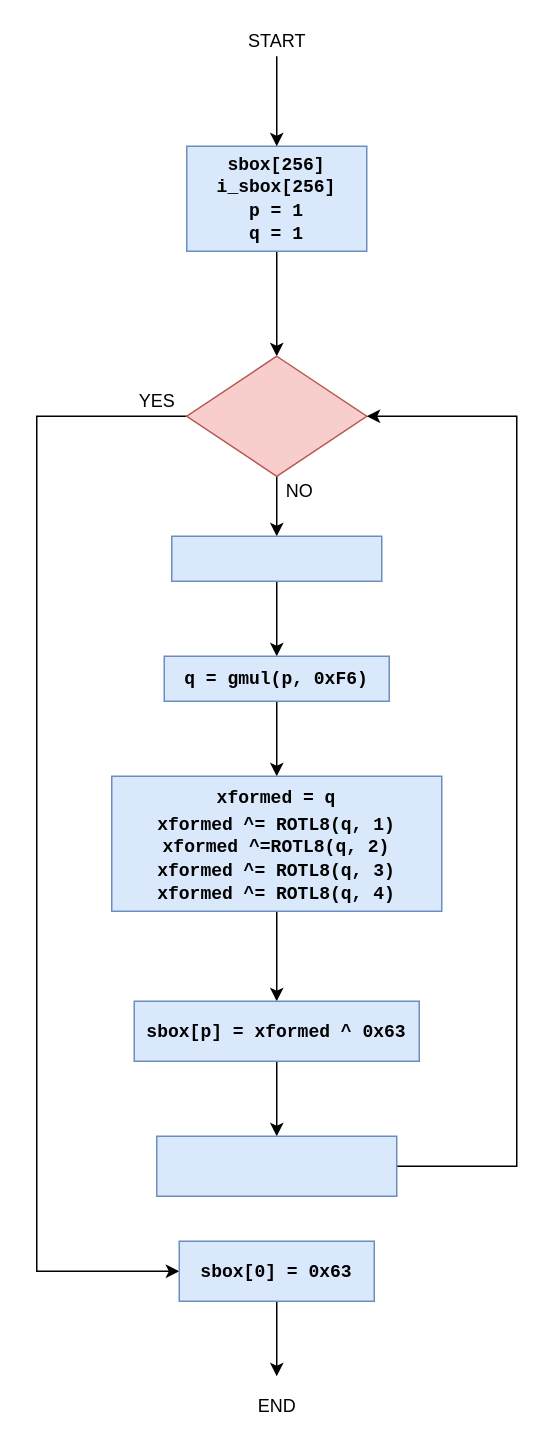
This 555x1446 diagram has some shape labels left out. Here are the shapes that lost their labels. From the top down, the centre of each, then its label:
At pixel 276 415: "257th Loop?".
At pixel 276 558: "p = gmul(p, 0x03)".
At pixel 276 1165: "i_sbox[sbox[p]] = p".
